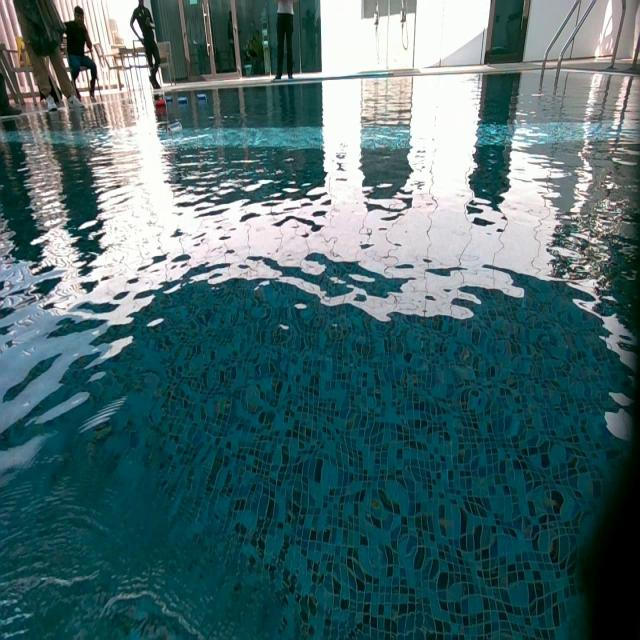Cans: (167, 122, 183, 136), (155, 100, 167, 112), (199, 94, 209, 104), (178, 97, 188, 107), (182, 94, 190, 104), (167, 96, 174, 106)
